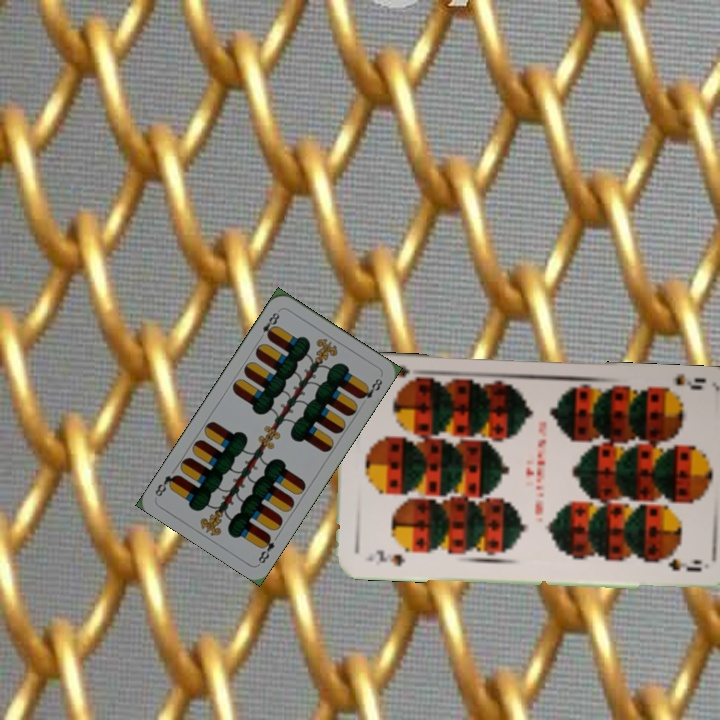E8: (255, 306, 283, 341), (254, 531, 277, 566)
S9: (654, 371, 709, 399), (361, 546, 408, 569)
